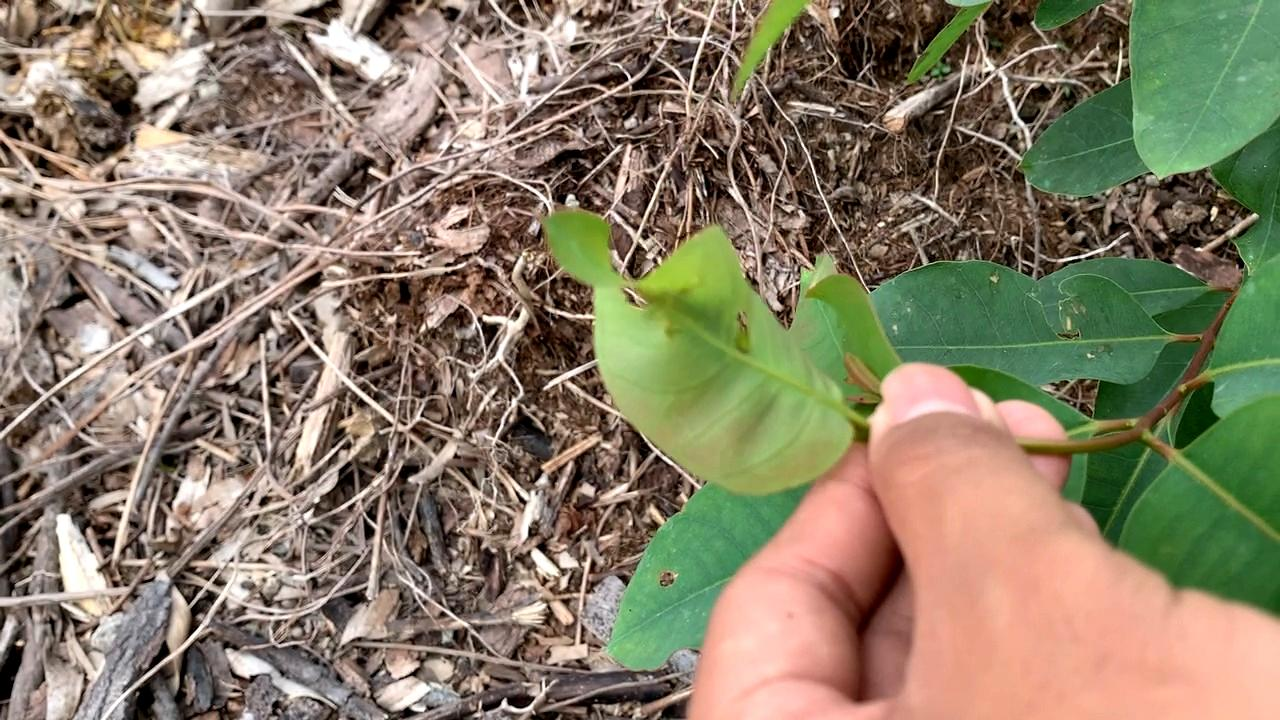Leaf Roller - Leaf: (538, 211, 842, 495)
